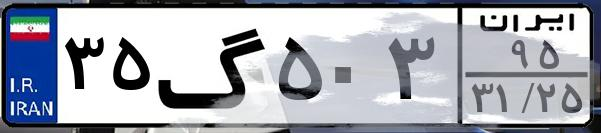0: (330, 28, 385, 110)
1: (495, 70, 520, 125)
2: (535, 70, 560, 125)
3: (385, 28, 445, 110), (57, 26, 110, 100), (470, 70, 495, 125)
5: (270, 28, 330, 110), (110, 28, 156, 98), (560, 70, 590, 125), (537, 27, 568, 80)
9: (508, 27, 537, 80)
گ: (156, 12, 270, 120)
